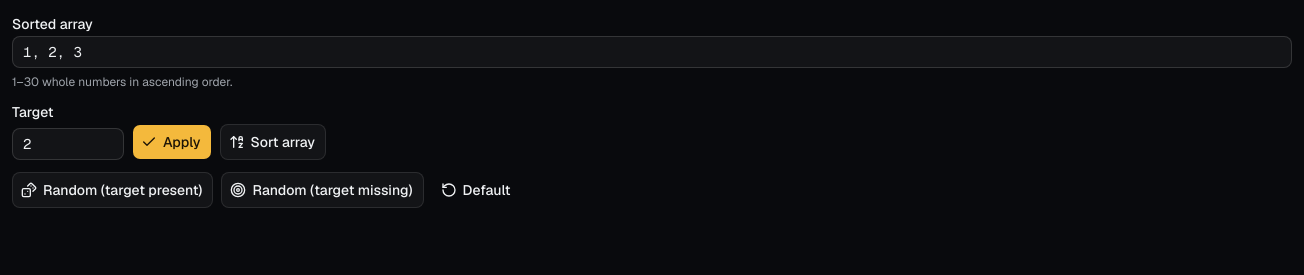
Test: SortedArrayTargetInput › rejects unsorted input and the Sort array button fixes it
The image size is (1304, 275).
Replace the text in the field labelled "Sorted array" with "5, 1, 3": (652, 52) x1=12 y1=36 x2=1292 y2=68
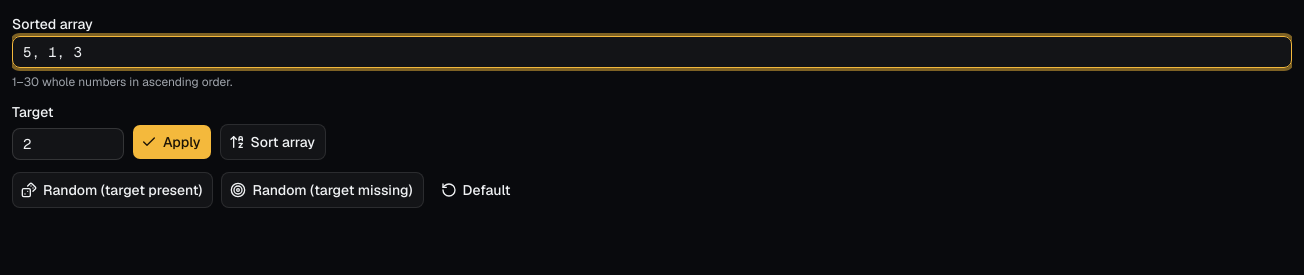
Click the button "Apply": (172, 142) x1=132 y1=124 x2=212 y2=160
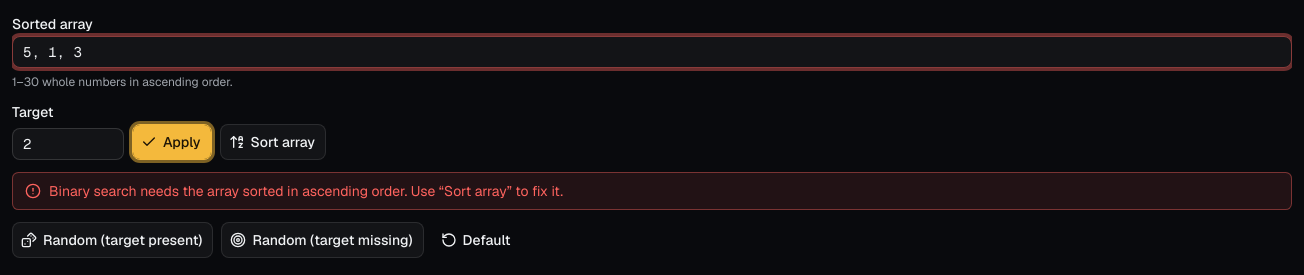
Expected: the message shows "sorted in ascending order", x1=49 y1=182 x2=563 y2=200
Click the button "Sort array": (273, 142) x1=220 y1=124 x2=326 y2=160
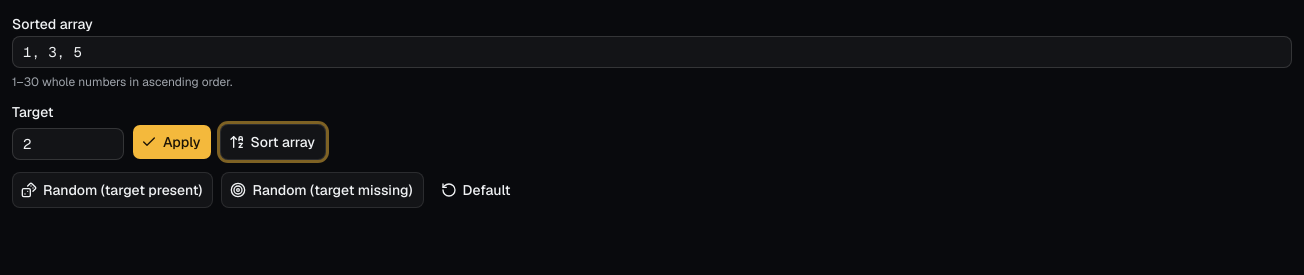
Expected: the message is gone
